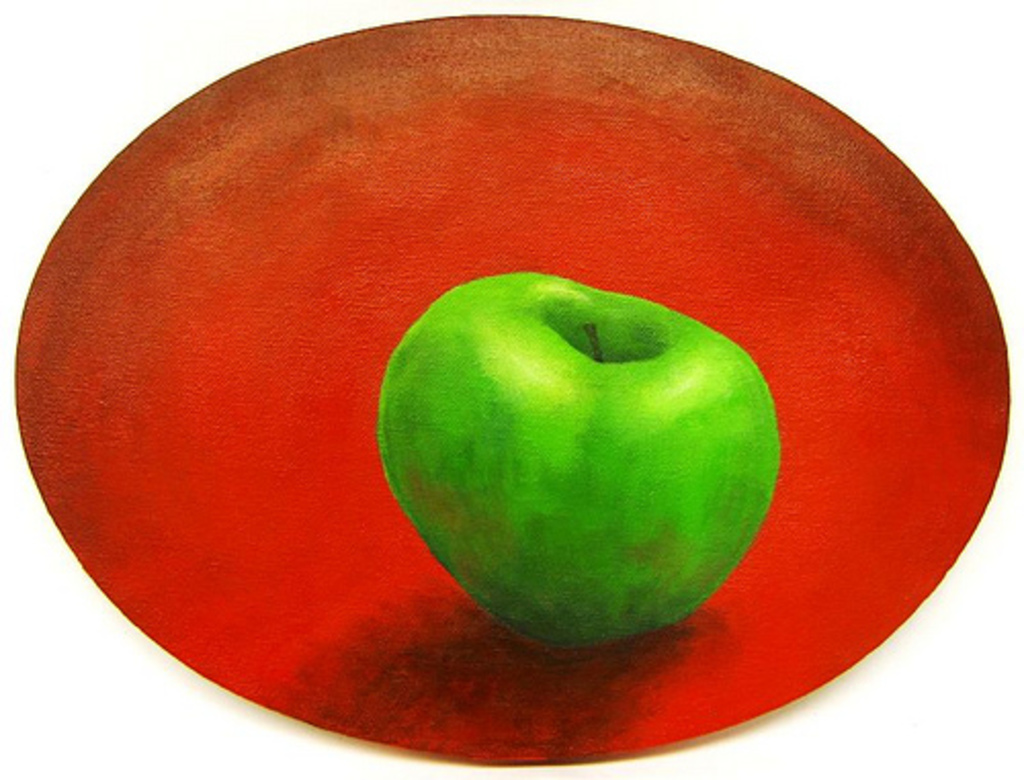Apple: (368, 262, 792, 646)
